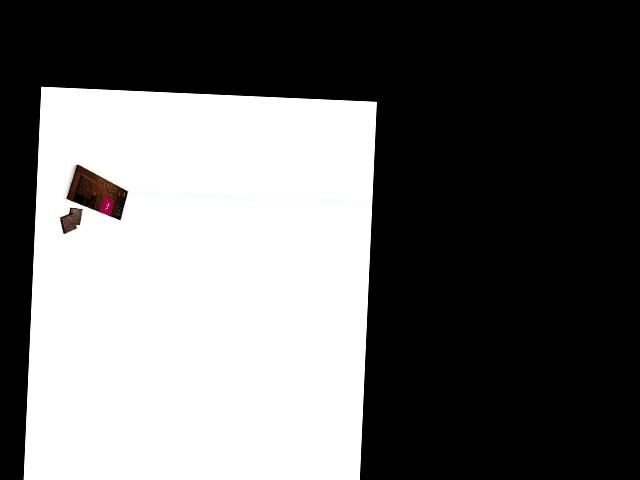chocolate: (64, 163, 129, 221)
